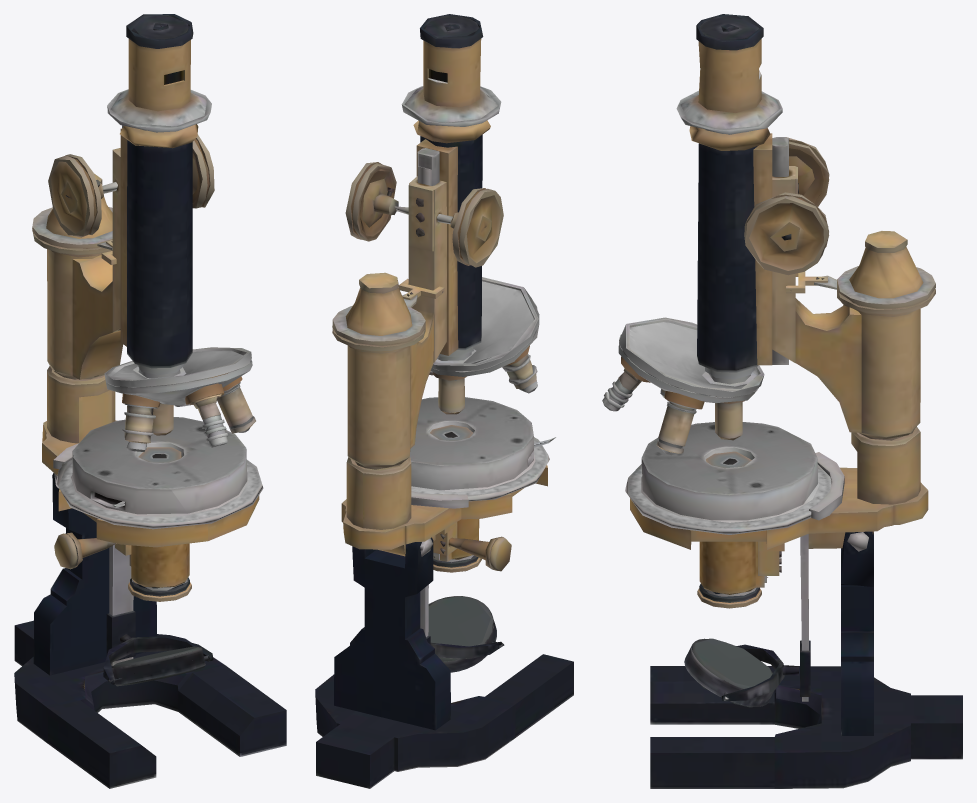
The model's file is microscope.glb.
The picture shows the model from 3 angles, left to right: view 1: azimuth 30°, elevation 25°; view 2: azimuth 150°, elevation 25°; view 3: azimuth 270°, elevation 25°; orthographic projection. The views are drawn at different scales.
Parts seen in each view (by area): view 1: vintage_microscope_mirror_arm, vintage_microscope_mirror_base; view 2: vintage_microscope_mirror_arm, vintage_microscope_mirror_base; view 3: vintage_microscope_mirror_arm, vintage_microscope_mirror_base.
Boxes of the visible parts, x1,y1,x2,y2 form: vintage_microscope_mirror_arm: (14, 14, 286, 788); vintage_microscope_mirror_base: (111, 646, 204, 686); vintage_microscope_mirror_arm: (315, 14, 573, 788); vintage_microscope_mirror_base: (428, 596, 493, 661); vintage_microscope_mirror_arm: (602, 14, 962, 788); vintage_microscope_mirror_base: (692, 638, 772, 707).
Bounding box in the file's own units: 0.1056 × 0.3996 × 0.1818.
Materials: 2 (2 with a texture image).
